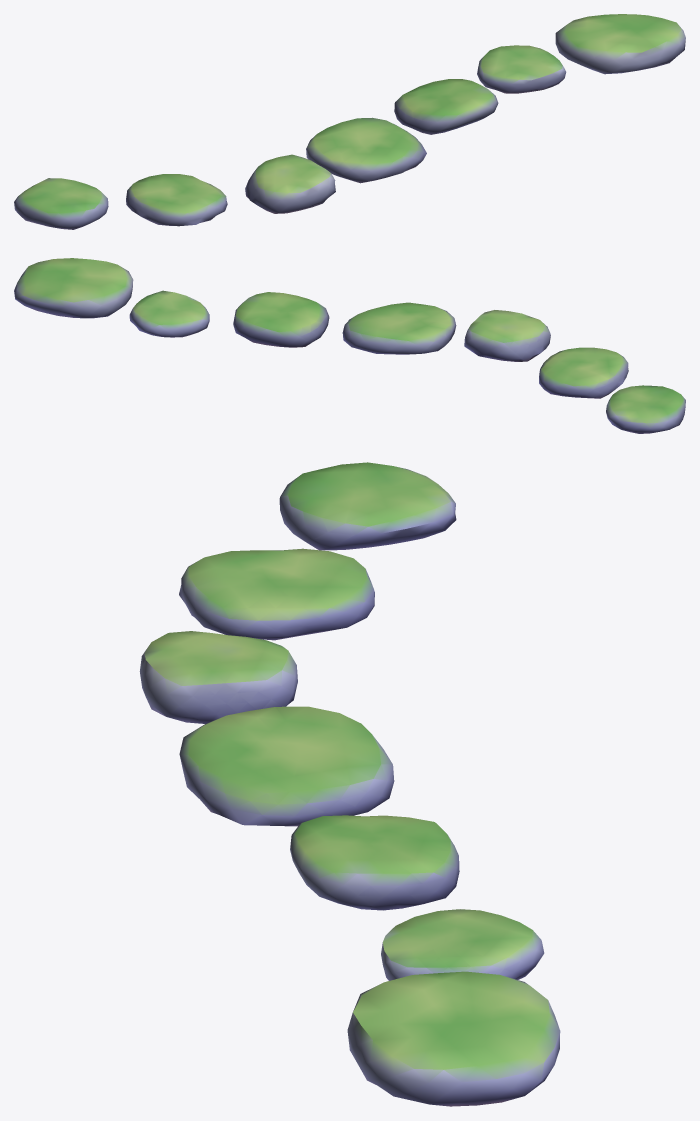
Rendered from verdant_misc_stepping_stones_a.glb.
The picture shows the model from 3 angles, top to bottom: view 1: azimuth 30°, elevation 25°; view 2: azimuth 150°, elevation 25°; view 3: azimuth 270°, elevation 25°; orthographic projection. The views are drawn at different scales.
Parts seen in each view (by area): view 1: verdant_misc_stepping_stones_a; view 2: verdant_misc_stepping_stones_a; view 3: verdant_misc_stepping_stones_a.
Boxes of the visible parts, x1,y1,x2,y2 form: verdant_misc_stepping_stones_a: (14, 14, 685, 229); verdant_misc_stepping_stones_a: (14, 258, 685, 433); verdant_misc_stepping_stones_a: (139, 462, 560, 1106).
Bounding box in the file's own units: 11.18 × 0.4245 × 3.19.
